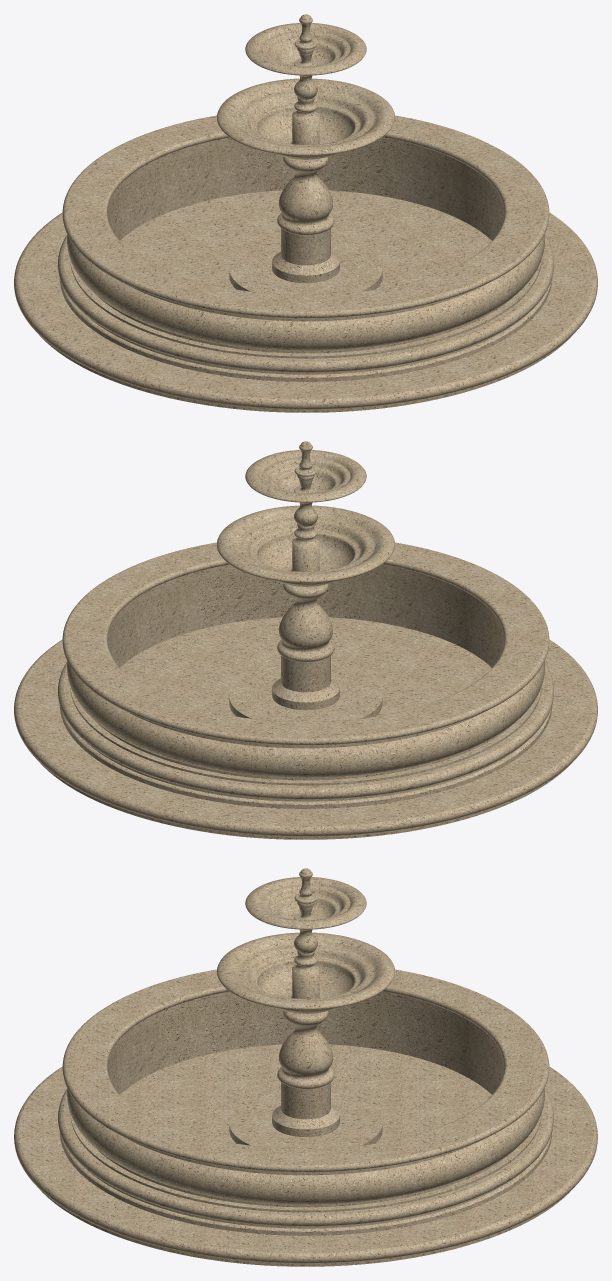
File: fountain 1.fbx
3 views of the same model, one above another, from view 1: azimuth 30°, elevation 25°; view 2: azimuth 150°, elevation 25°; view 3: azimuth 270°, elevation 25° (orthographic).
Visible parts, largest first — view 1: structure; view 2: structure; view 3: structure.
Boxes of the visible parts, x1,y1,x2,y2 form: structure: (14,14,597,412); structure: (14,441,597,839); structure: (14,868,597,1266).
Bounding box in the file's own units: 402 × 210 × 402.
